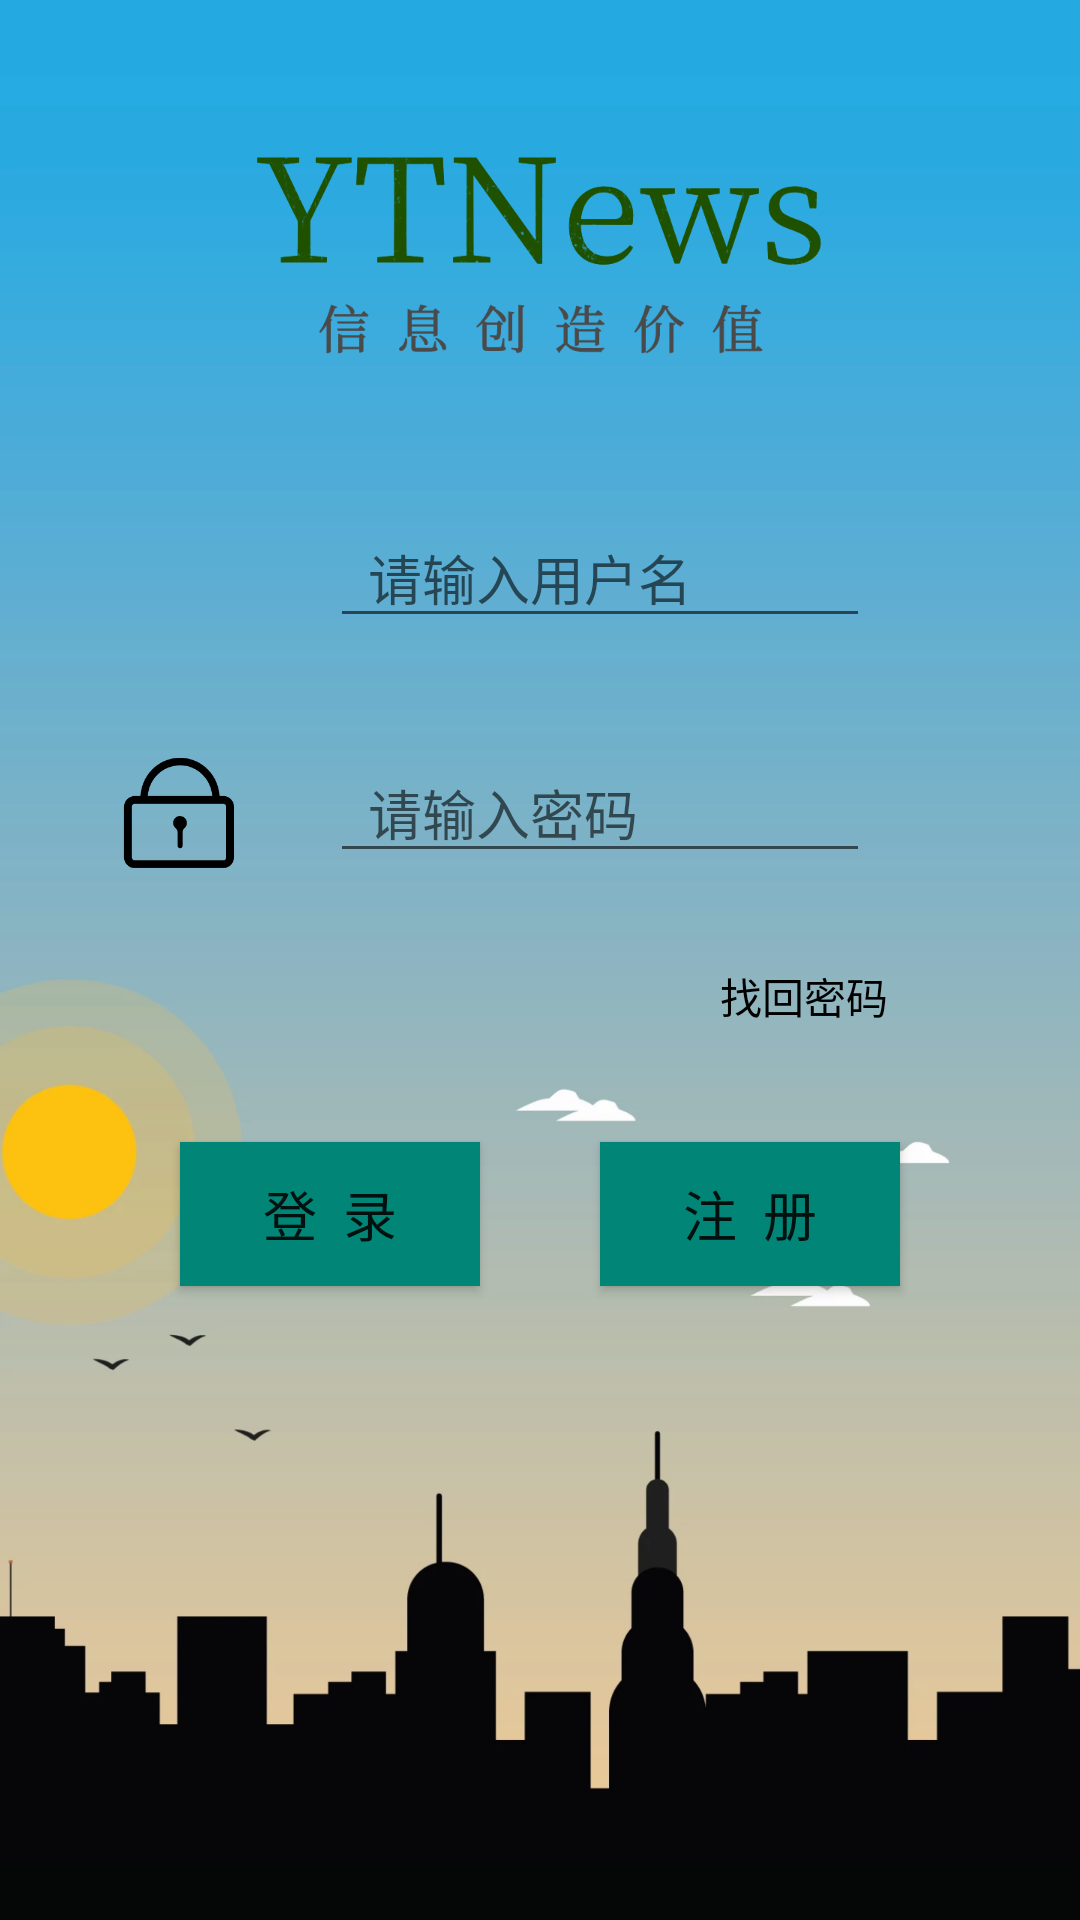

Point at icon controls on the screen. Image size 1080px×1920px, points as [x,y].
password: [179,813]
